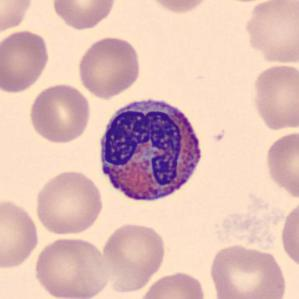Eosinophil: (93, 90, 209, 211)
RBC: (31, 234, 112, 299), (32, 168, 105, 237), (206, 243, 290, 299), (100, 220, 168, 287), (75, 34, 143, 99), (27, 82, 93, 145), (242, 0, 298, 66), (250, 61, 298, 133), (0, 28, 51, 95), (0, 196, 41, 270), (262, 128, 298, 203), (136, 268, 208, 299), (49, 0, 118, 31), (278, 198, 299, 272), (0, 0, 35, 36), (142, 0, 212, 15)
